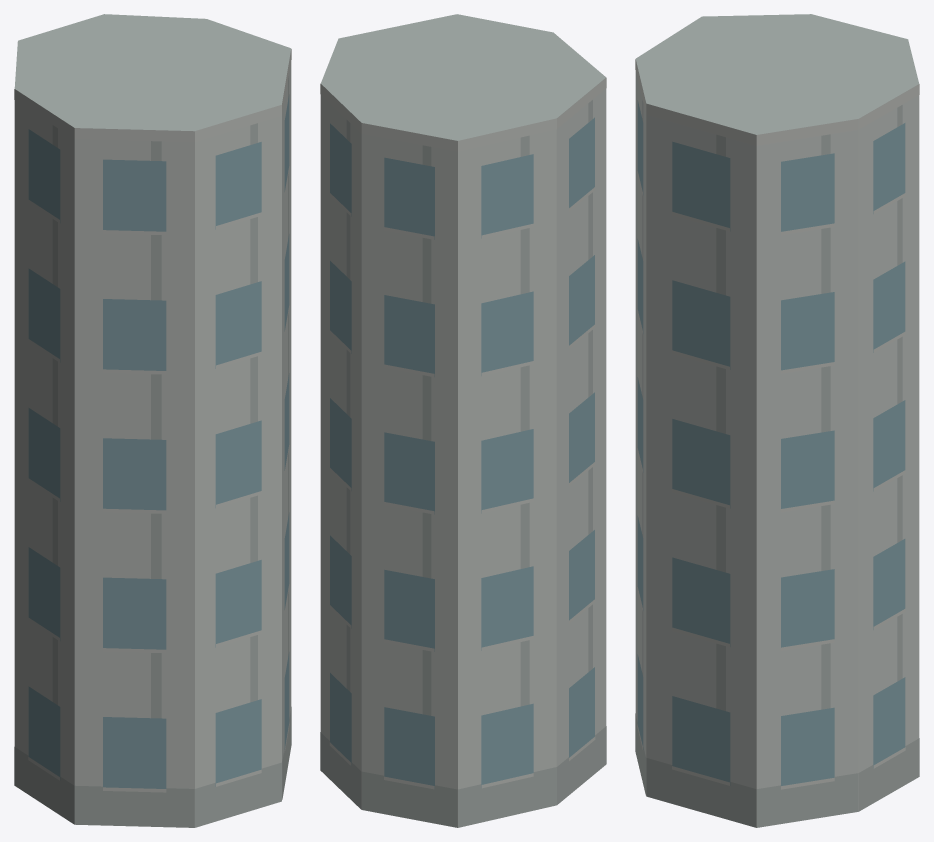
Rendered from survey-upis-32703598.glb.
3 views of the same model, side by side, from view 1: azimuth 30°, elevation 25°; view 2: azimuth 150°, elevation 25°; view 3: azimuth 270°, elevation 25° (orthographic).
Parts seen in each view (by area): view 1: survey-upis-32703598.tmp; view 2: survey-upis-32703598.tmp; view 3: survey-upis-32703598.tmp.
Part boxes in pixels (<box>): survey-upis-32703598.tmp: <box>14,14,291,827</box>; survey-upis-32703598.tmp: <box>320,14,606,827</box>; survey-upis-32703598.tmp: <box>635,14,919,827</box>.
Bounding box in the file's own units: 5.72 × 15.25 × 5.67.
